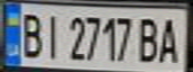1: (100, 14, 121, 62)
2: (63, 11, 87, 61)
7: (81, 12, 103, 61), (115, 14, 136, 62)
A: (154, 13, 184, 64)
B: (18, 8, 45, 60), (136, 13, 163, 64)
I: (39, 10, 66, 61)
